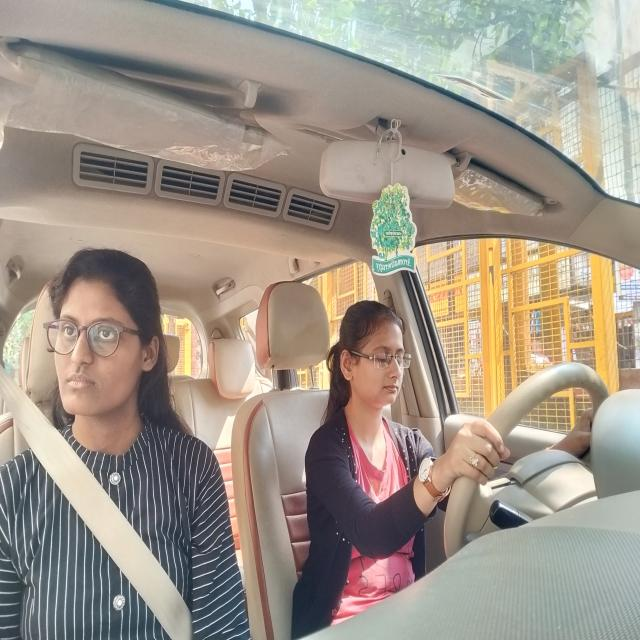drowsy: (333, 294, 416, 412)
person: (45, 244, 163, 423)
